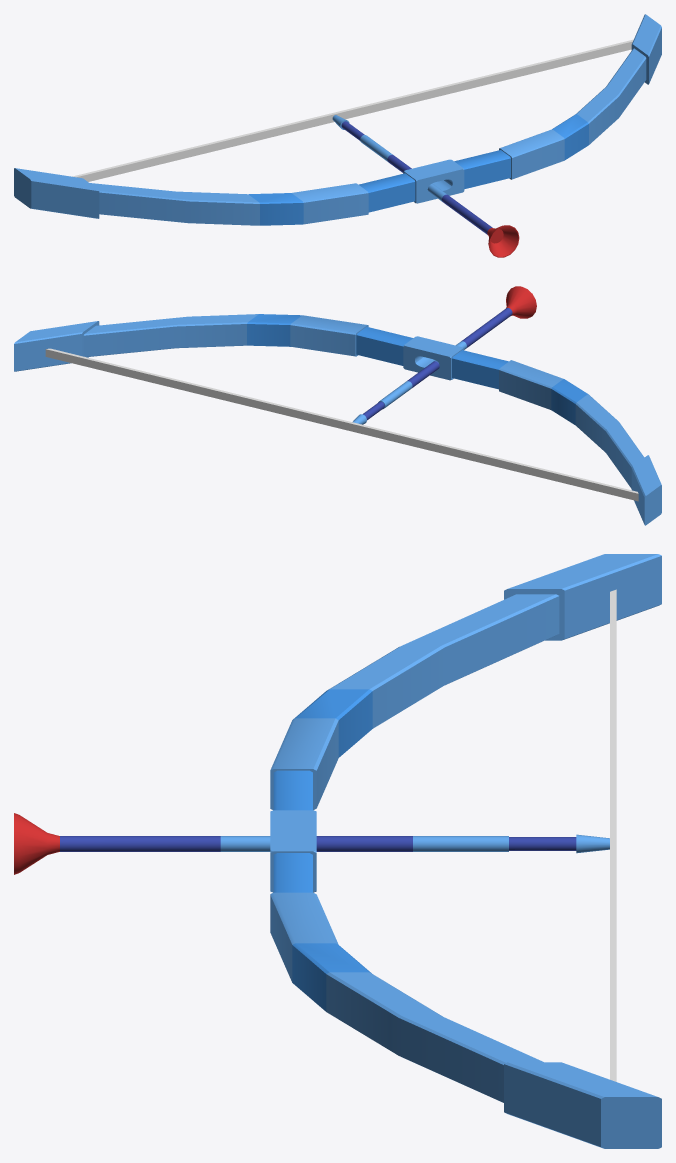
The model's file is Bow.fbx.
3 views of the same model, one above another, from view 1: azimuth 30°, elevation 25°; view 2: azimuth 150°, elevation 25°; view 3: azimuth 270°, elevation 25° (orthographic). The views are drawn at different scales.
Visible parts, largest first — view 1: Bow; view 2: Bow; view 3: Bow.
Part boxes in pixels (box(x1,y1,x2,y2)): Bow: box(14, 14, 661, 257); Bow: box(14, 286, 661, 525); Bow: box(14, 554, 661, 1148).
Size of the model in its own units: 91.72 by 4.44 by 46.25.
Materials: 1 (1 with a texture image).
